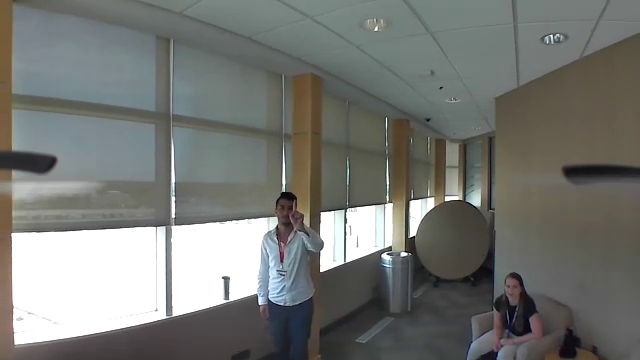up: (284, 196, 307, 230)
